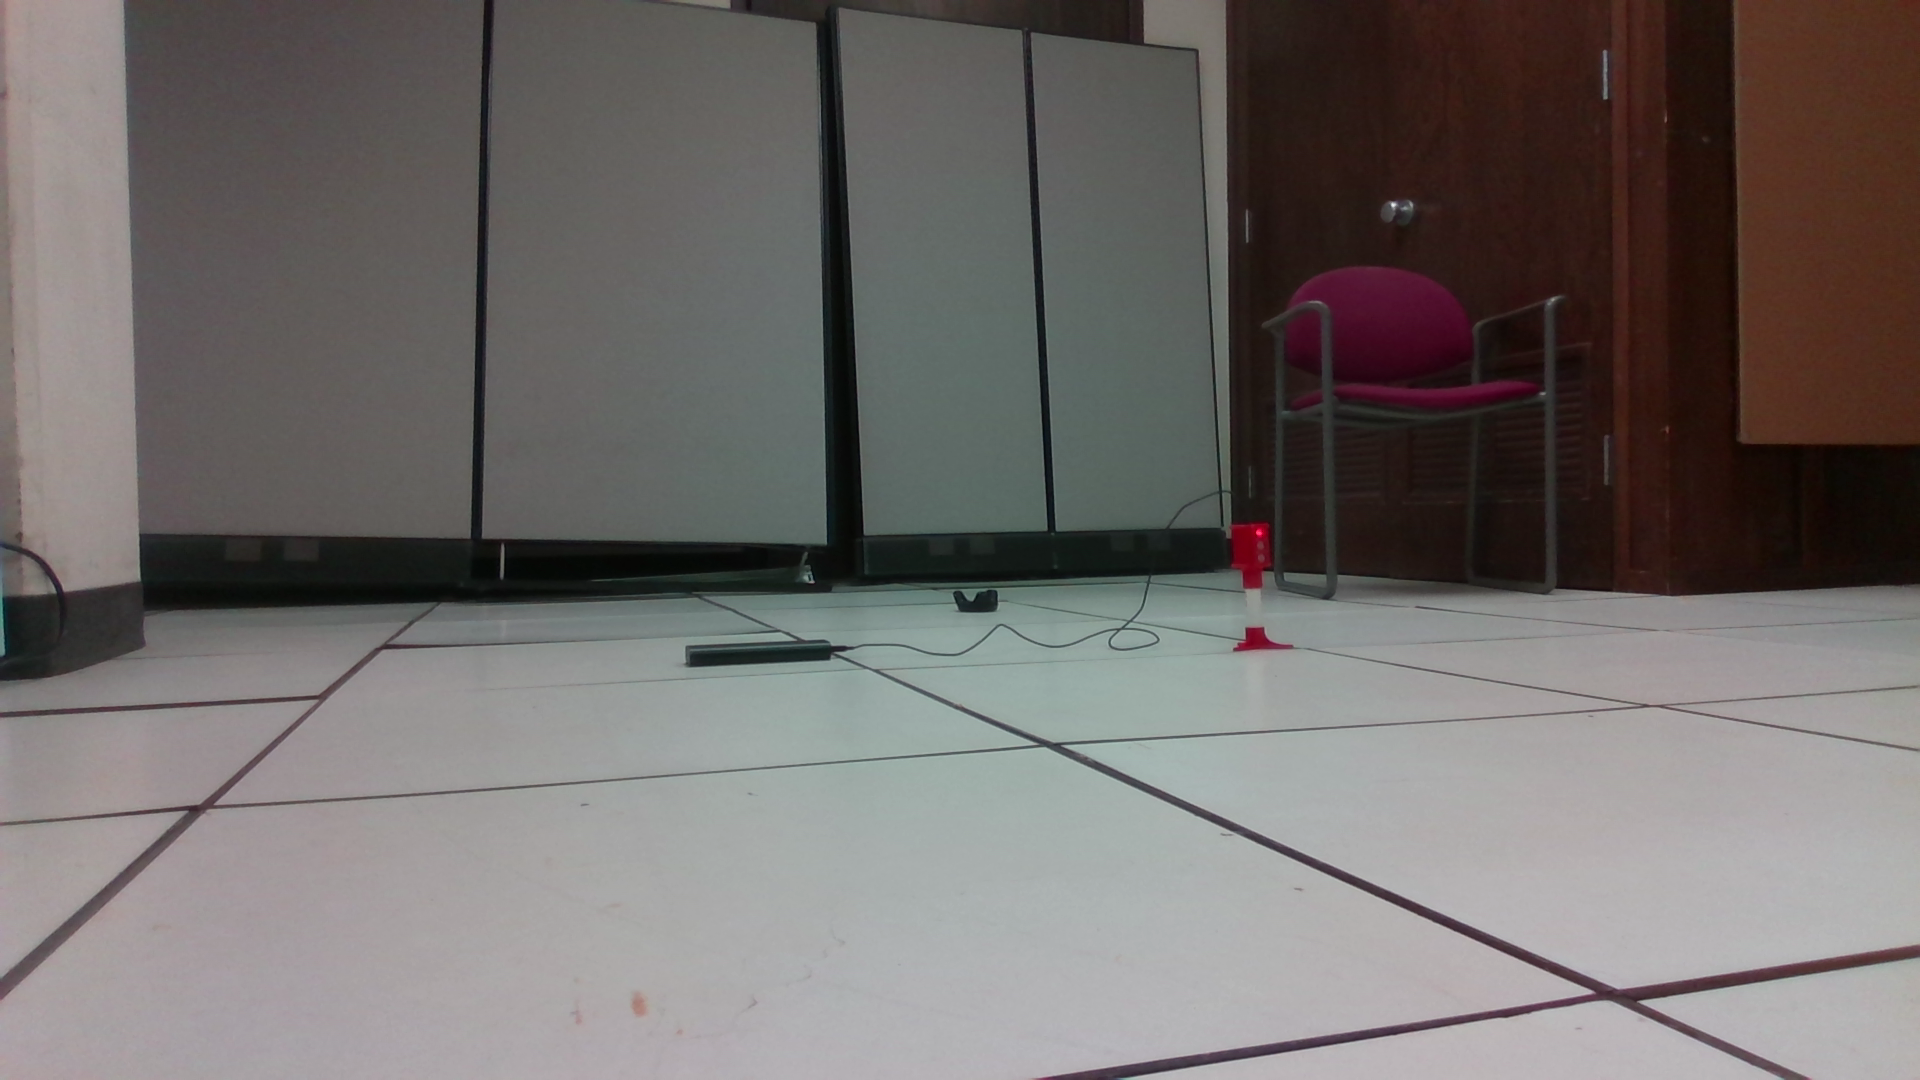stoplight: (1229, 518, 1275, 592)
